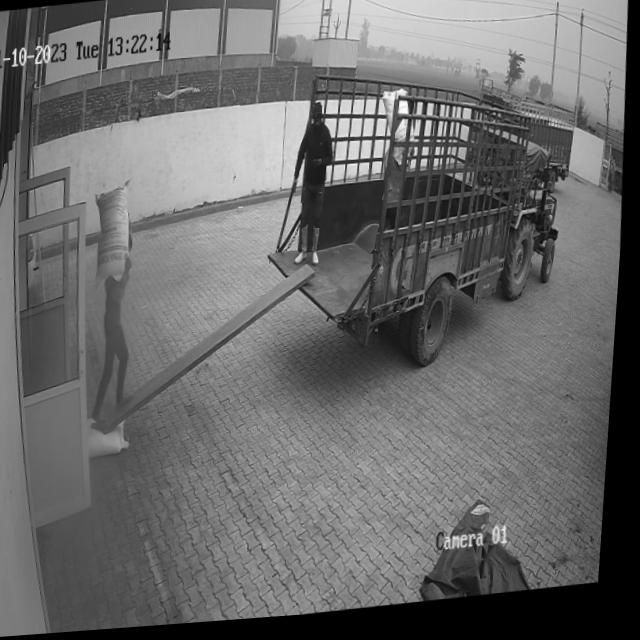sack: (92, 179, 138, 291), (93, 422, 134, 459)
